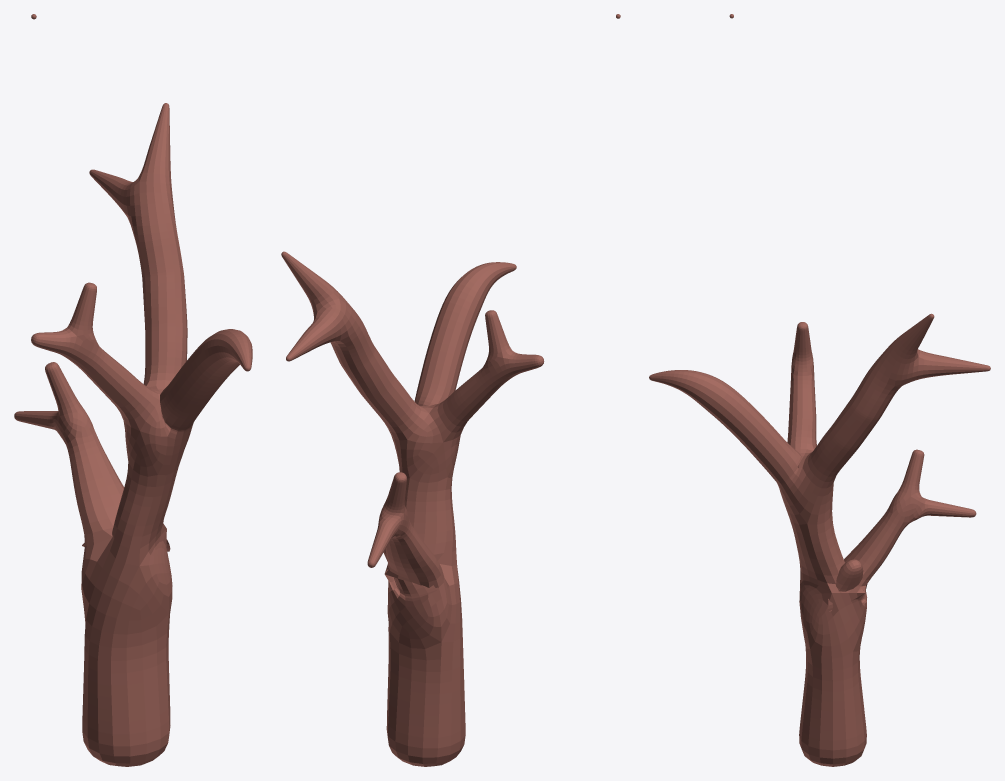
Rendered from arbol.fbx.
The picture shows the model from 3 angles, left to right: view 1: azimuth 30°, elevation 25°; view 2: azimuth 150°, elevation 25°; view 3: azimuth 270°, elevation 25°; orthographic projection. The views are drawn at different scales.
Parts seen in each view (by area): view 1: Cubo; view 2: Cubo; view 3: Cubo.
Boxes of the visible parts, bbox=[...] form: Cubo: bbox=[14, 14, 252, 766]; Cubo: bbox=[281, 14, 620, 766]; Cubo: bbox=[649, 14, 990, 766].
Size of the model in its own units: 1.05 by 3.22 by 1.46.
